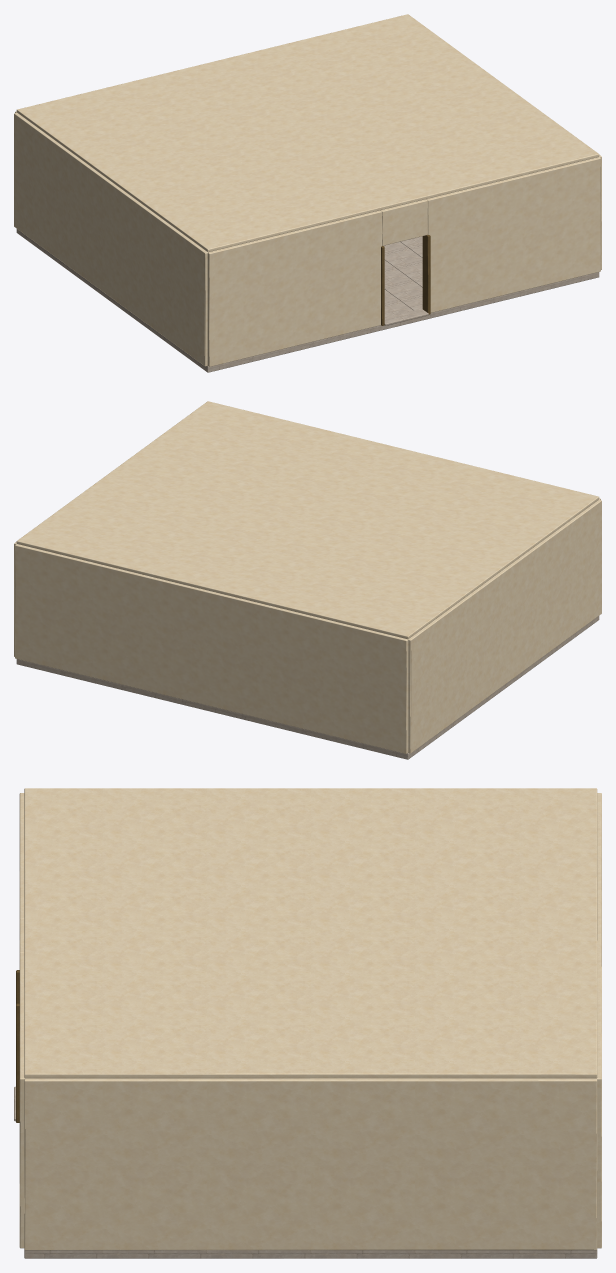
The model's file is hotel_rest_lounge.glb.
3 views of the same model, one above another, from view 1: azimuth 30°, elevation 25°; view 2: azimuth 150°, elevation 25°; view 3: azimuth 270°, elevation 25° (orthographic). The views are drawn at different scales.
Visible parts, largest first — view 1: Rebuilt_hotel_rest_lounge; view 2: Rebuilt_hotel_rest_lounge; view 3: Rebuilt_hotel_rest_lounge.
Boxes of the visible parts, x1,y1,x2,y2 form: Rebuilt_hotel_rest_lounge: (14, 14, 601, 372); Rebuilt_hotel_rest_lounge: (14, 401, 601, 759); Rebuilt_hotel_rest_lounge: (14, 788, 601, 1258).
Size of the model in its own units: 13.18 by 3.92 by 11.29.
Materials: 11 (10 with a texture image).
